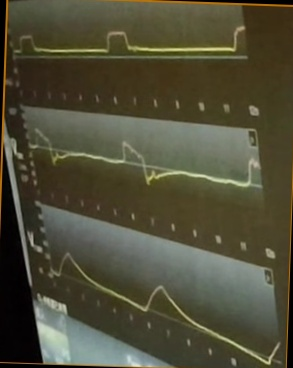Accumulation Flow: (30, 124, 260, 191)
Volume: (51, 249, 281, 365)
